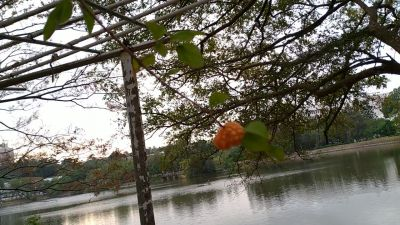eggs: (213, 121, 245, 152)
